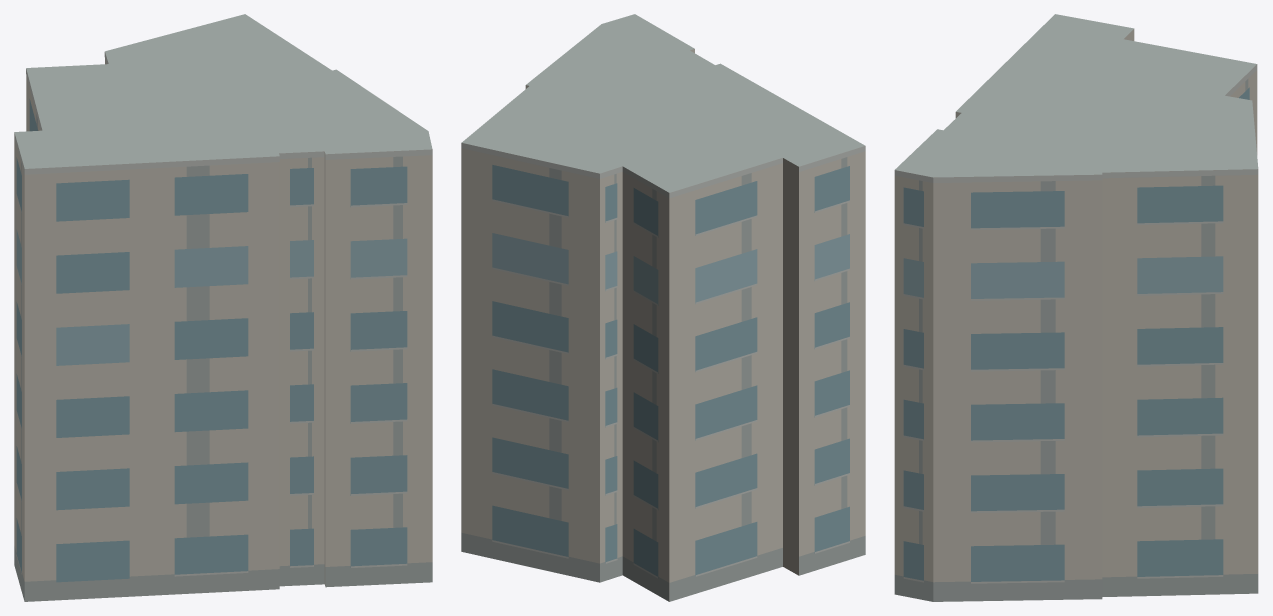
The model's file is survey-upis-32505121.glb.
3 renders of one model, left to right at view 1: azimuth 30°, elevation 25°; view 2: azimuth 150°, elevation 25°; view 3: azimuth 270°, elevation 25°, orthographic. The views are drawn at different scales.
Parts seen in each view (by area): view 1: survey-upis-32505121.tmp; view 2: survey-upis-32505121.tmp; view 3: survey-upis-32505121.tmp.
Part boxes in pixels (x1=…): survey-upis-32505121.tmp: x1=14, y1=14, x2=432, y2=601; survey-upis-32505121.tmp: x1=461, y1=14, x2=865, y2=601; survey-upis-32505121.tmp: x1=894, y1=14, x2=1258, y2=601.
Size of the model in its own units: 15.13 by 18.3 by 14.23.
